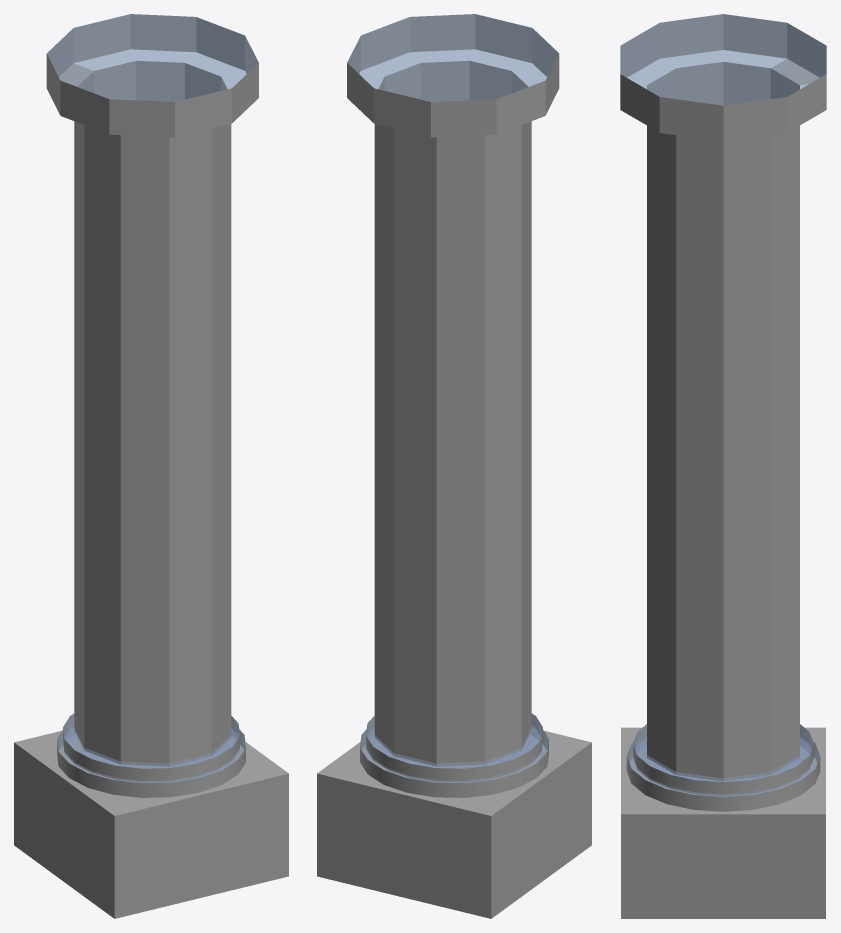
Rendered from Romanpillar_1.fbx.
The picture shows the model from 3 angles, left to right: view 1: azimuth 30°, elevation 25°; view 2: azimuth 150°, elevation 25°; view 3: azimuth 270°, elevation 25°; orthographic projection.
Parts seen in each view (by area): view 1: pillar_1; view 2: pillar_1; view 3: pillar_1.
Part boxes in pixels (left/top/right/bottom): pillar_1: left=14, top=14, right=288, bottom=918; pillar_1: left=317, top=14, right=591, bottom=918; pillar_1: left=620, top=14, right=826, bottom=918.
Size of the model in its own units: 114 by 473 by 108.
